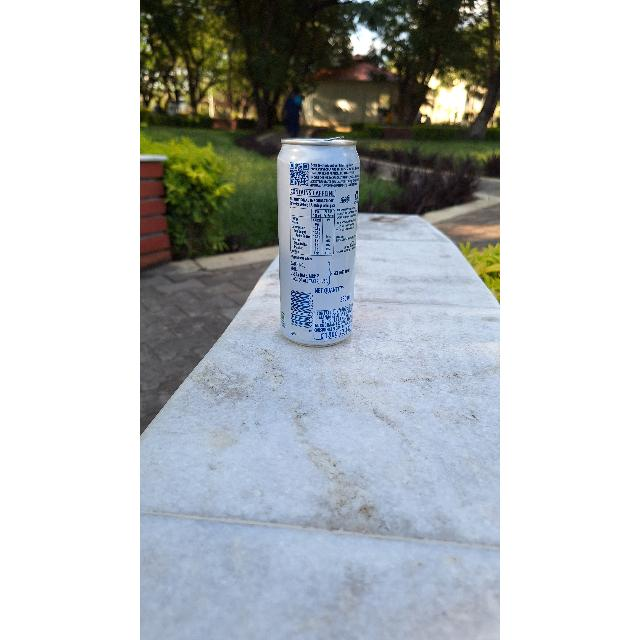Pepsi Retro: (274, 128, 362, 352)
